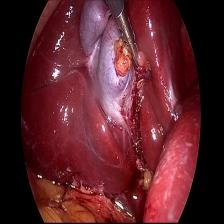Grasper: (113, 10, 148, 78)
